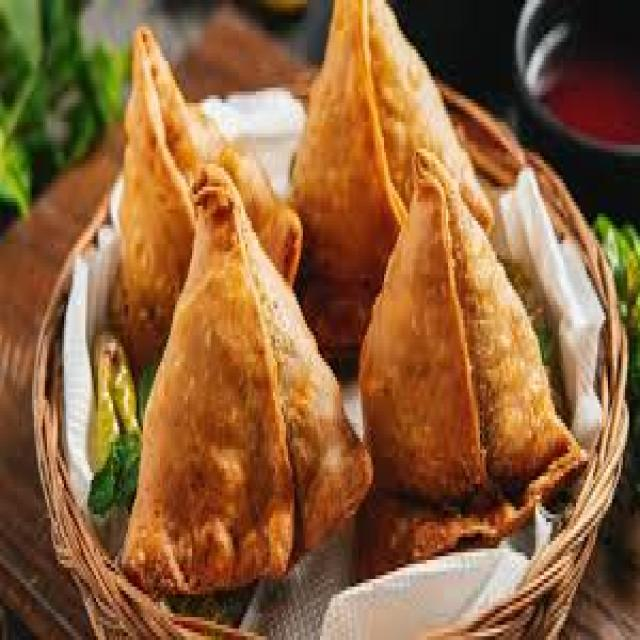SAMOSA: (122, 164, 371, 587), (358, 152, 580, 568), (290, 0, 489, 358), (115, 27, 299, 366)
